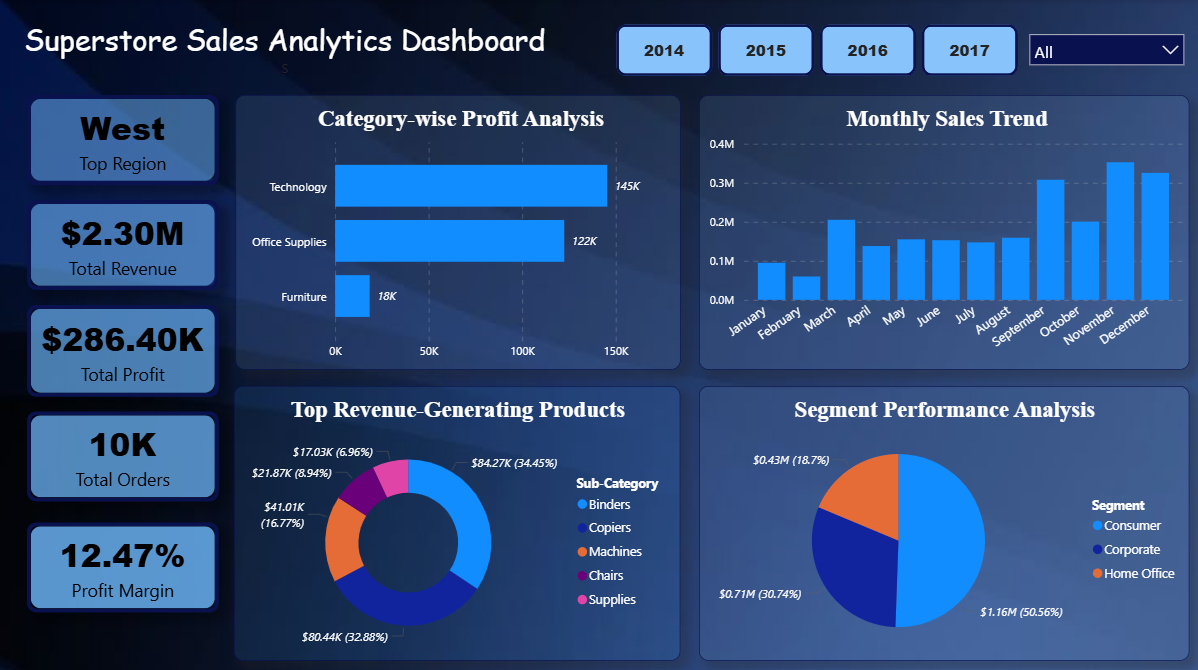

The dashboard page shown, as its layout file describes it:
{"tool":"powerbi","page":{"name":"Page 1","canvas":[1280,720],"ordinal":0},"visuals":[{"type":"textbox","title":"Superstore Sales Analytics Dashboard","box":[11.4,9.8,588,73],"z":0},{"type":"donutChart","title":"Top Revenue-Generating Products","fields":{"Y":["sales_data.Total Revenue"],"Category":["sales_data.Sub-Category"]},"box":[251.2,409.6,473.6,291.2],"z":1000},{"type":"advancedSlicerVisual","fields":{"Values":["sales_data.Year"]},"box":[656,25.6,430.4,57.6],"z":2000},{"type":"cardVisual","fields":{"Data":["sales_data.Total Revenue"]},"box":[31.8,213.1,203.6,95.4],"z":3000},{"type":"cardVisual","fields":{"Data":["sales_data.Total Profit"]},"box":[31.8,324.5,203.6,97],"z":4000},{"type":"cardVisual","fields":{"Data":["sales_data.Total Orders"]},"box":[31.8,437.4,203.6,95.4],"z":5000},{"type":"cardVisual","fields":{"Data":["sales_data.Profit Margin"]},"box":[31.8,555.1,203.6,95.4],"z":6000},{"type":"cardVisual","fields":{"Data":["sales_data.Top Region"]},"box":[31.8,101.8,203.6,95.4],"z":7000},{"type":"barChart","title":"Category-wise Profit Analysis","fields":{"Category":["sales_data.Category"],"Y":["Sum(sales_data.Profit)"]},"box":[252.8,102.4,472,291.2],"z":8000},{"type":"slicer","title":"Region","fields":{"Values":["sales_data.Region"]},"box":[1089.6,25.6,174.4,55],"z":9000},{"type":"columnChart","title":"Monthly Sales Trend","fields":{"Y":["Sum(sales_data.Sales)"],"Category":["sales_data.Month"]},"box":[744,102.4,520,291.2],"z":10000},{"type":"pieChart","title":"Segment Performance Analysis","fields":{"Category":["sales_data.Segment"],"Y":["sales_data.Total Revenue"]},"box":[744,409.6,520,291.2],"z":11000}]}

Visuals, with their boxes in screenshot pixels (x1, y1, x2, y2), scaled from the page's 1280x720 canvas onto the 1198x670 screenshot:
"Superstore Sales Analytics Dashboard" textbox: 11 9 561 77
"Top Revenue-Generating Products" donutChart: 235 381 678 652
advancedSlicerVisual - sales_data.Year: 614 24 1017 77
cardVisual - sales_data.Total Revenue: 30 198 220 287
cardVisual - sales_data.Total Profit: 30 302 220 392
cardVisual - sales_data.Total Orders: 30 407 220 496
cardVisual - sales_data.Profit Margin: 30 517 220 605
cardVisual - sales_data.Top Region: 30 95 220 184
"Category-wise Profit Analysis" barChart: 237 95 678 366
"Region" slicer: 1020 24 1183 75
"Monthly Sales Trend" columnChart: 696 95 1183 366
"Segment Performance Analysis" pieChart: 696 381 1183 652
